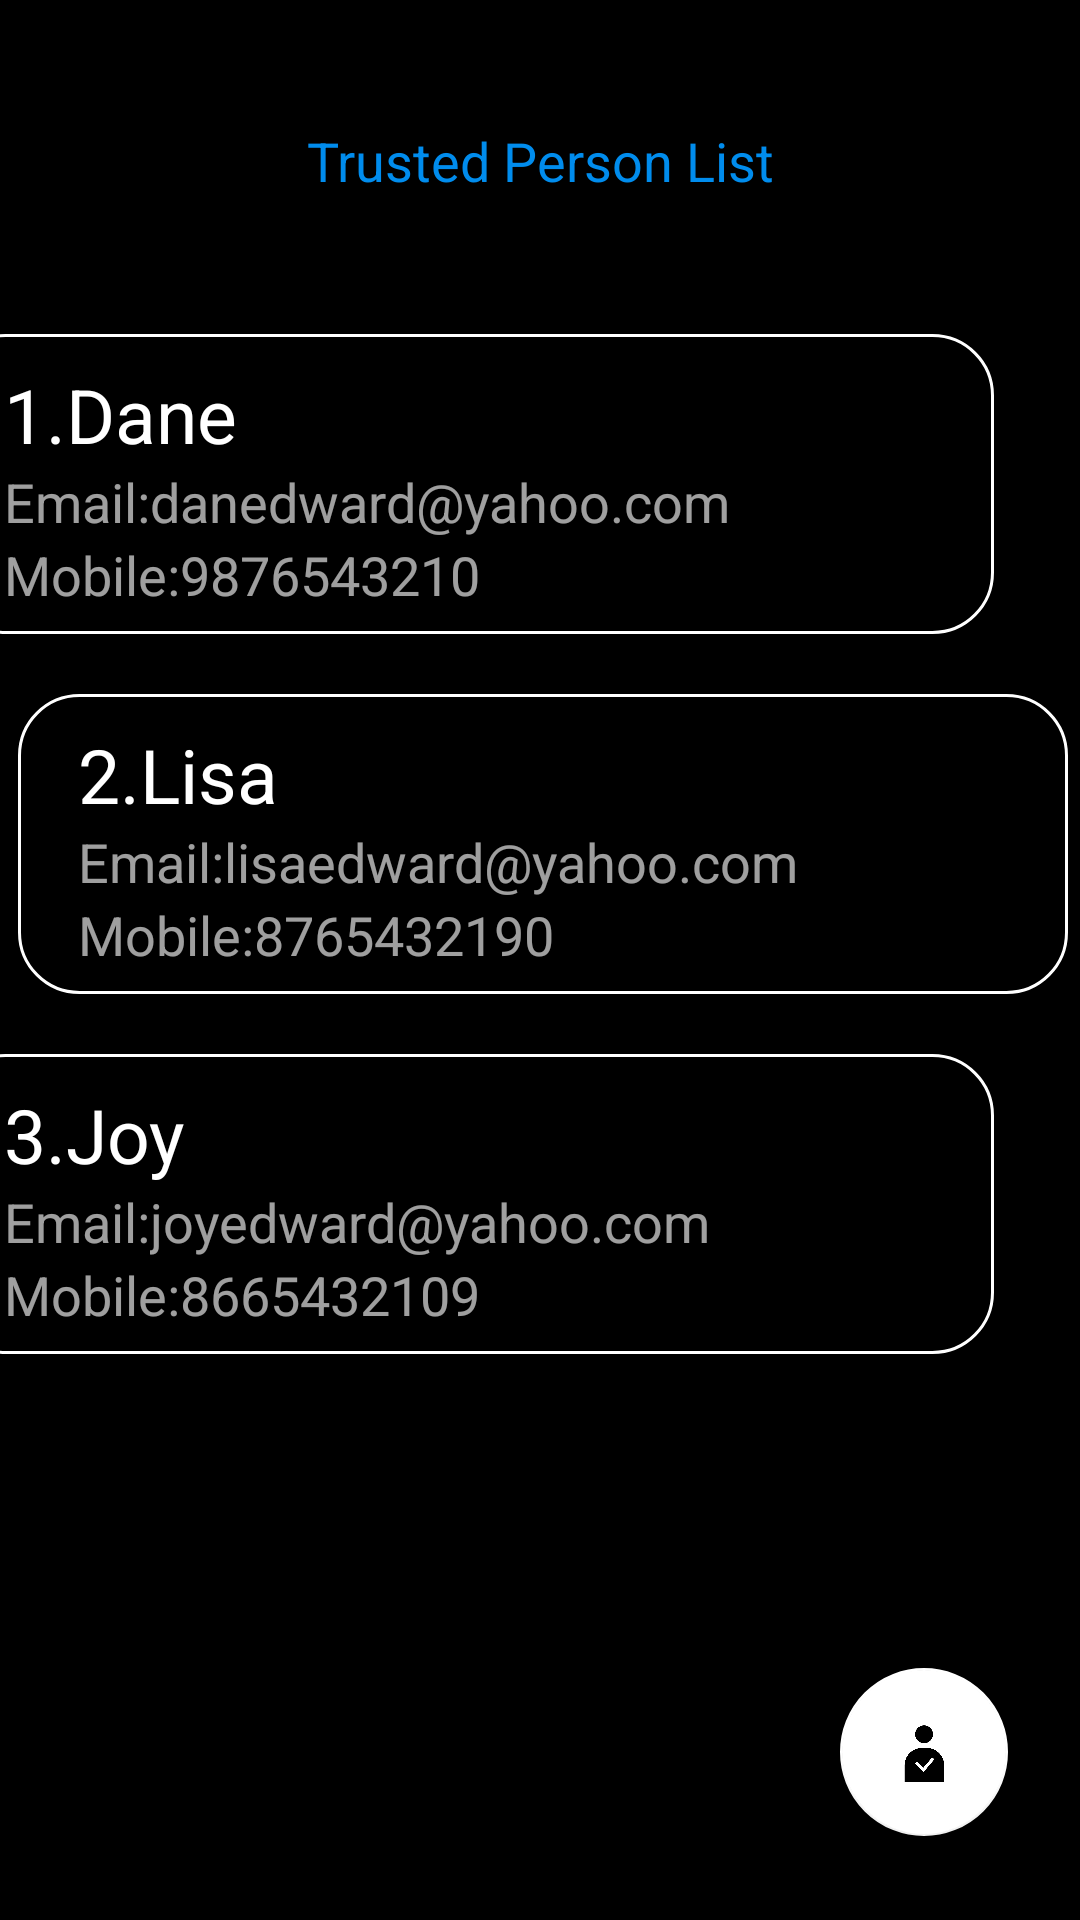

Screen size 1080px×1920px. Icon name, then its box in pixels as detection(x1, y1, x2, y2):
trustedperson: detection(840, 1668, 1008, 1836)
